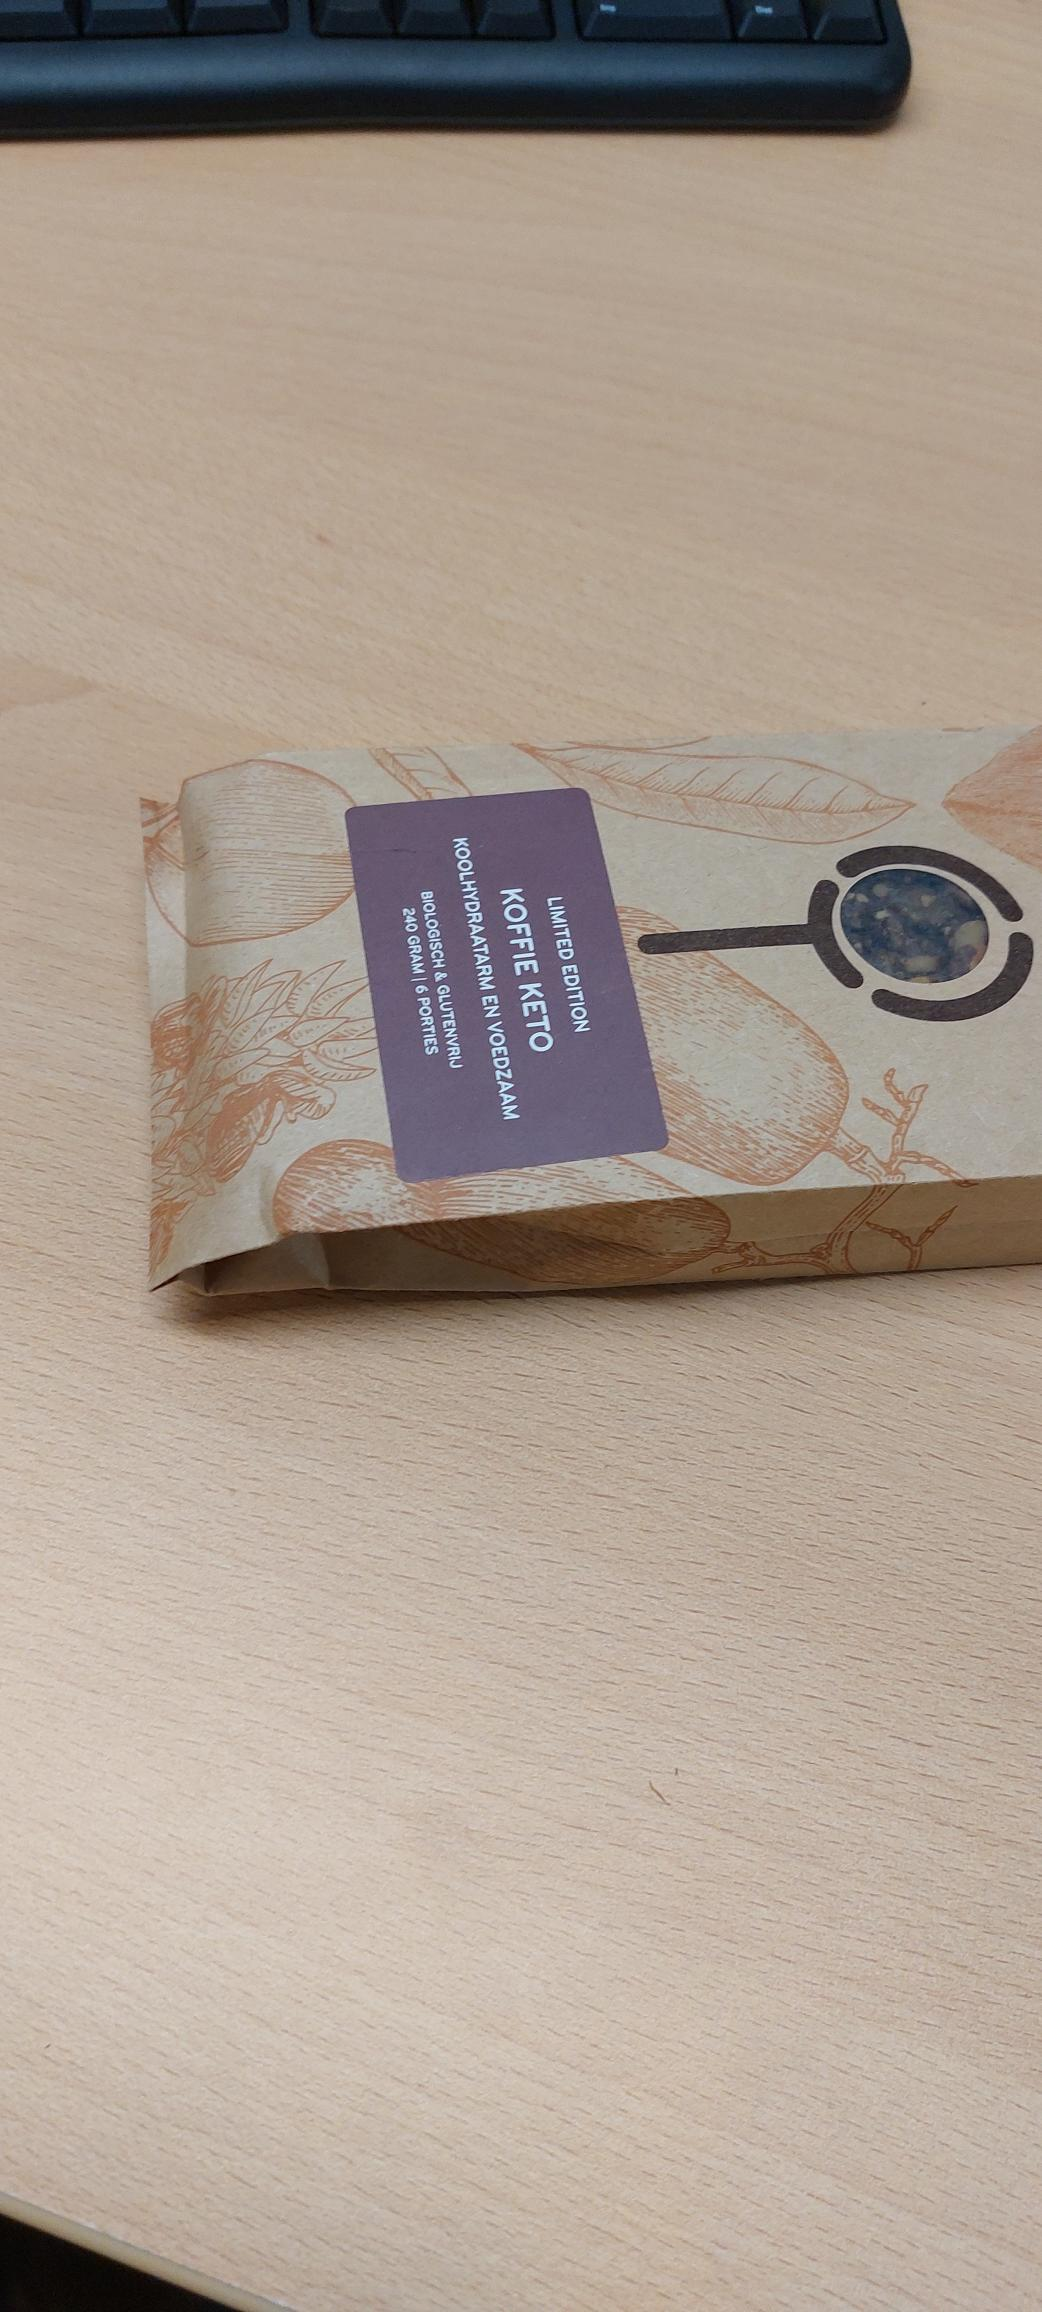KoffieKeto: (311, 787, 691, 1191)
